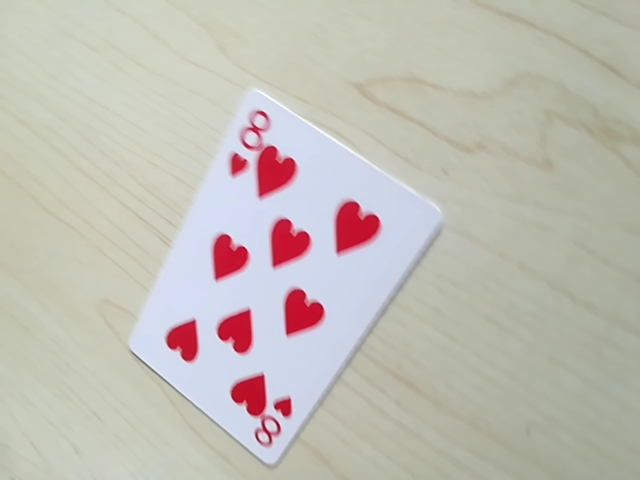hx 8: (244, 400, 298, 458), (233, 100, 282, 156)
